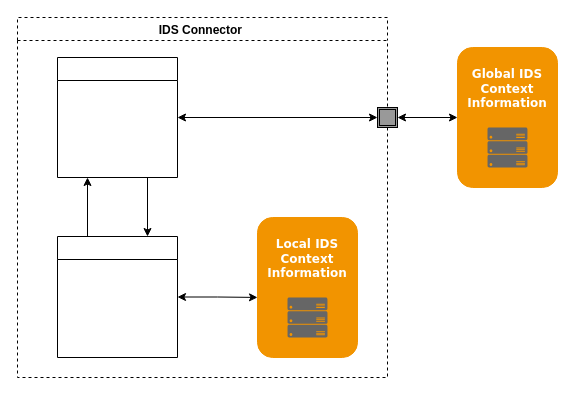
The diagram is 575 pixels wide and 395 high, and some of its shapes have lost their labels. Here are the shapes that lost their labels. From the top down, the centre of each, then its label:
At (x=117, y=117): "IDS Connector Core".
At (x=117, y=297): "Policy Engine".
